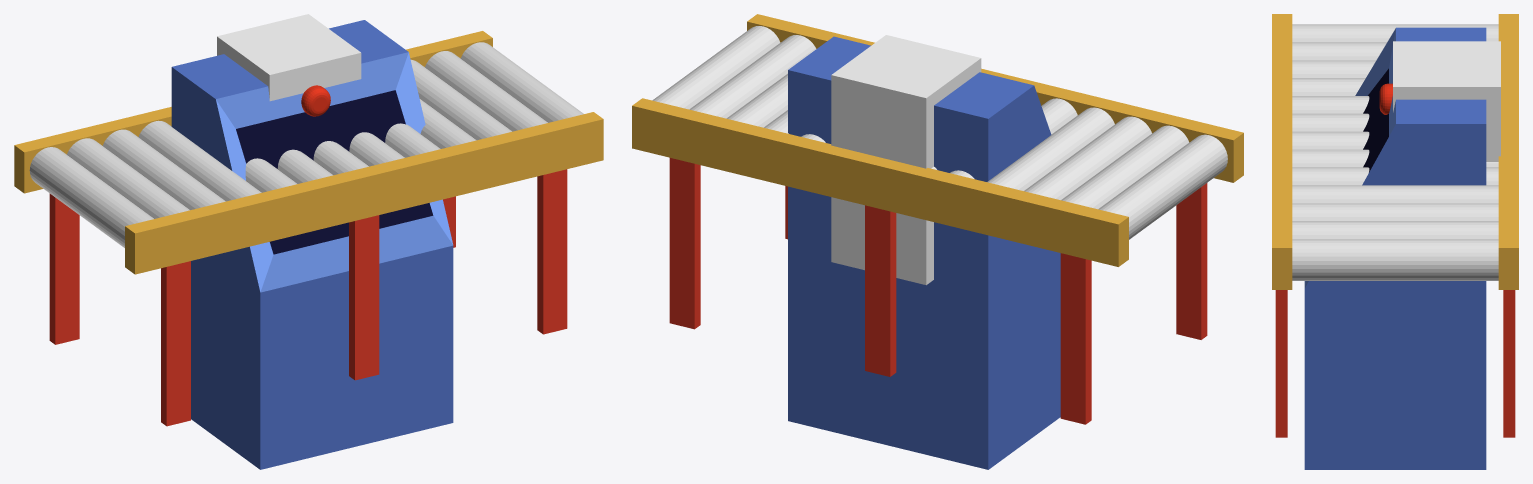
Rendered from extra_things.fbx.
3 renders of one model, left to right at view 1: azimuth 30°, elevation 25°; view 2: azimuth 150°, elevation 25°; view 3: azimuth 270°, elevation 25°, orthographic. The views are drawn at different scales.
Parts seen in each view (by area): view 1: extratrack, computer, console; view 2: extratrack, computer, console; view 3: extratrack, computer, console.
Part boxes in pixels (x1,y1,x2,y2): extratrack: (14, 31, 603, 426); computer: (171, 20, 453, 469); console: (217, 14, 361, 116); extratrack: (632, 14, 1243, 424); computer: (788, 36, 1060, 469); console: (831, 35, 981, 285); extratrack: (1272, 14, 1518, 437); computer: (1304, 27, 1486, 469); console: (1379, 41, 1500, 161).
Bounding box in the file's own units: 613 × 436 × 272.
